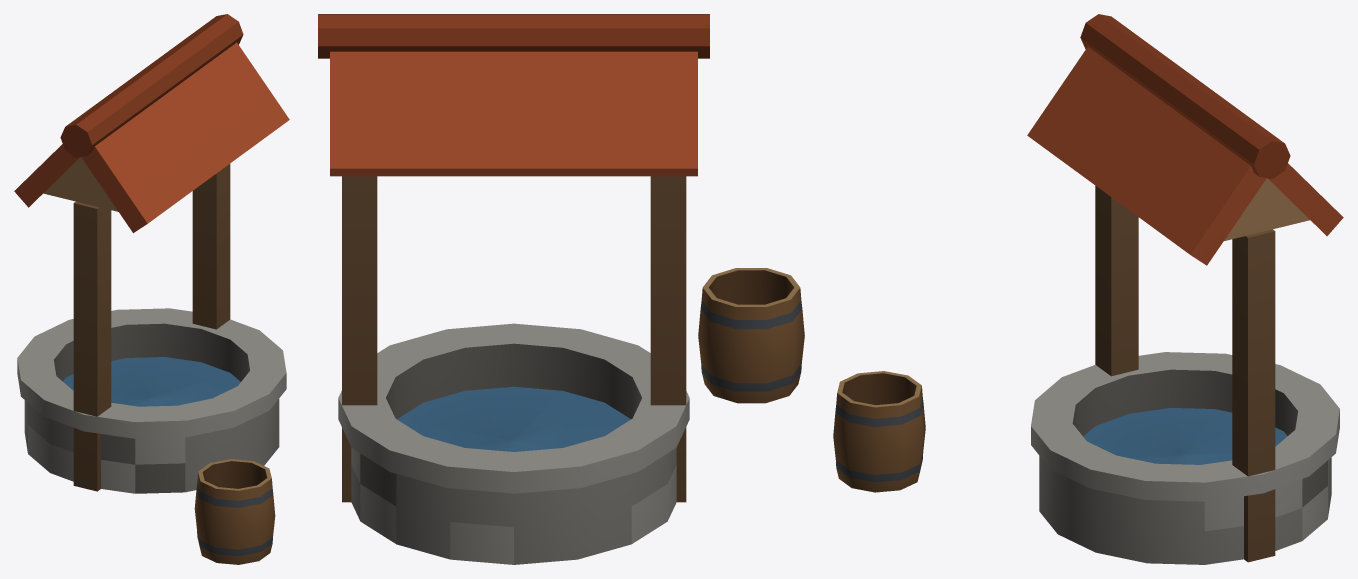
The model's file is building_25.glb.
3 views of the same model, side by side, from view 1: azimuth 30°, elevation 25°; view 2: azimuth 150°, elevation 25°; view 3: azimuth 270°, elevation 25° (orthographic). The views are drawn at different scales.
Visible parts, largest first — view 1: building_25; view 2: building_25; view 3: building_25.
Boxes of the visible parts, x1,y1,x2,y2 form: building_25: [14, 14, 289, 564]; building_25: [318, 14, 804, 564]; building_25: [833, 14, 1343, 564].
Size of the model in its own units: 0.3526 by 0.446 by 0.4848.
